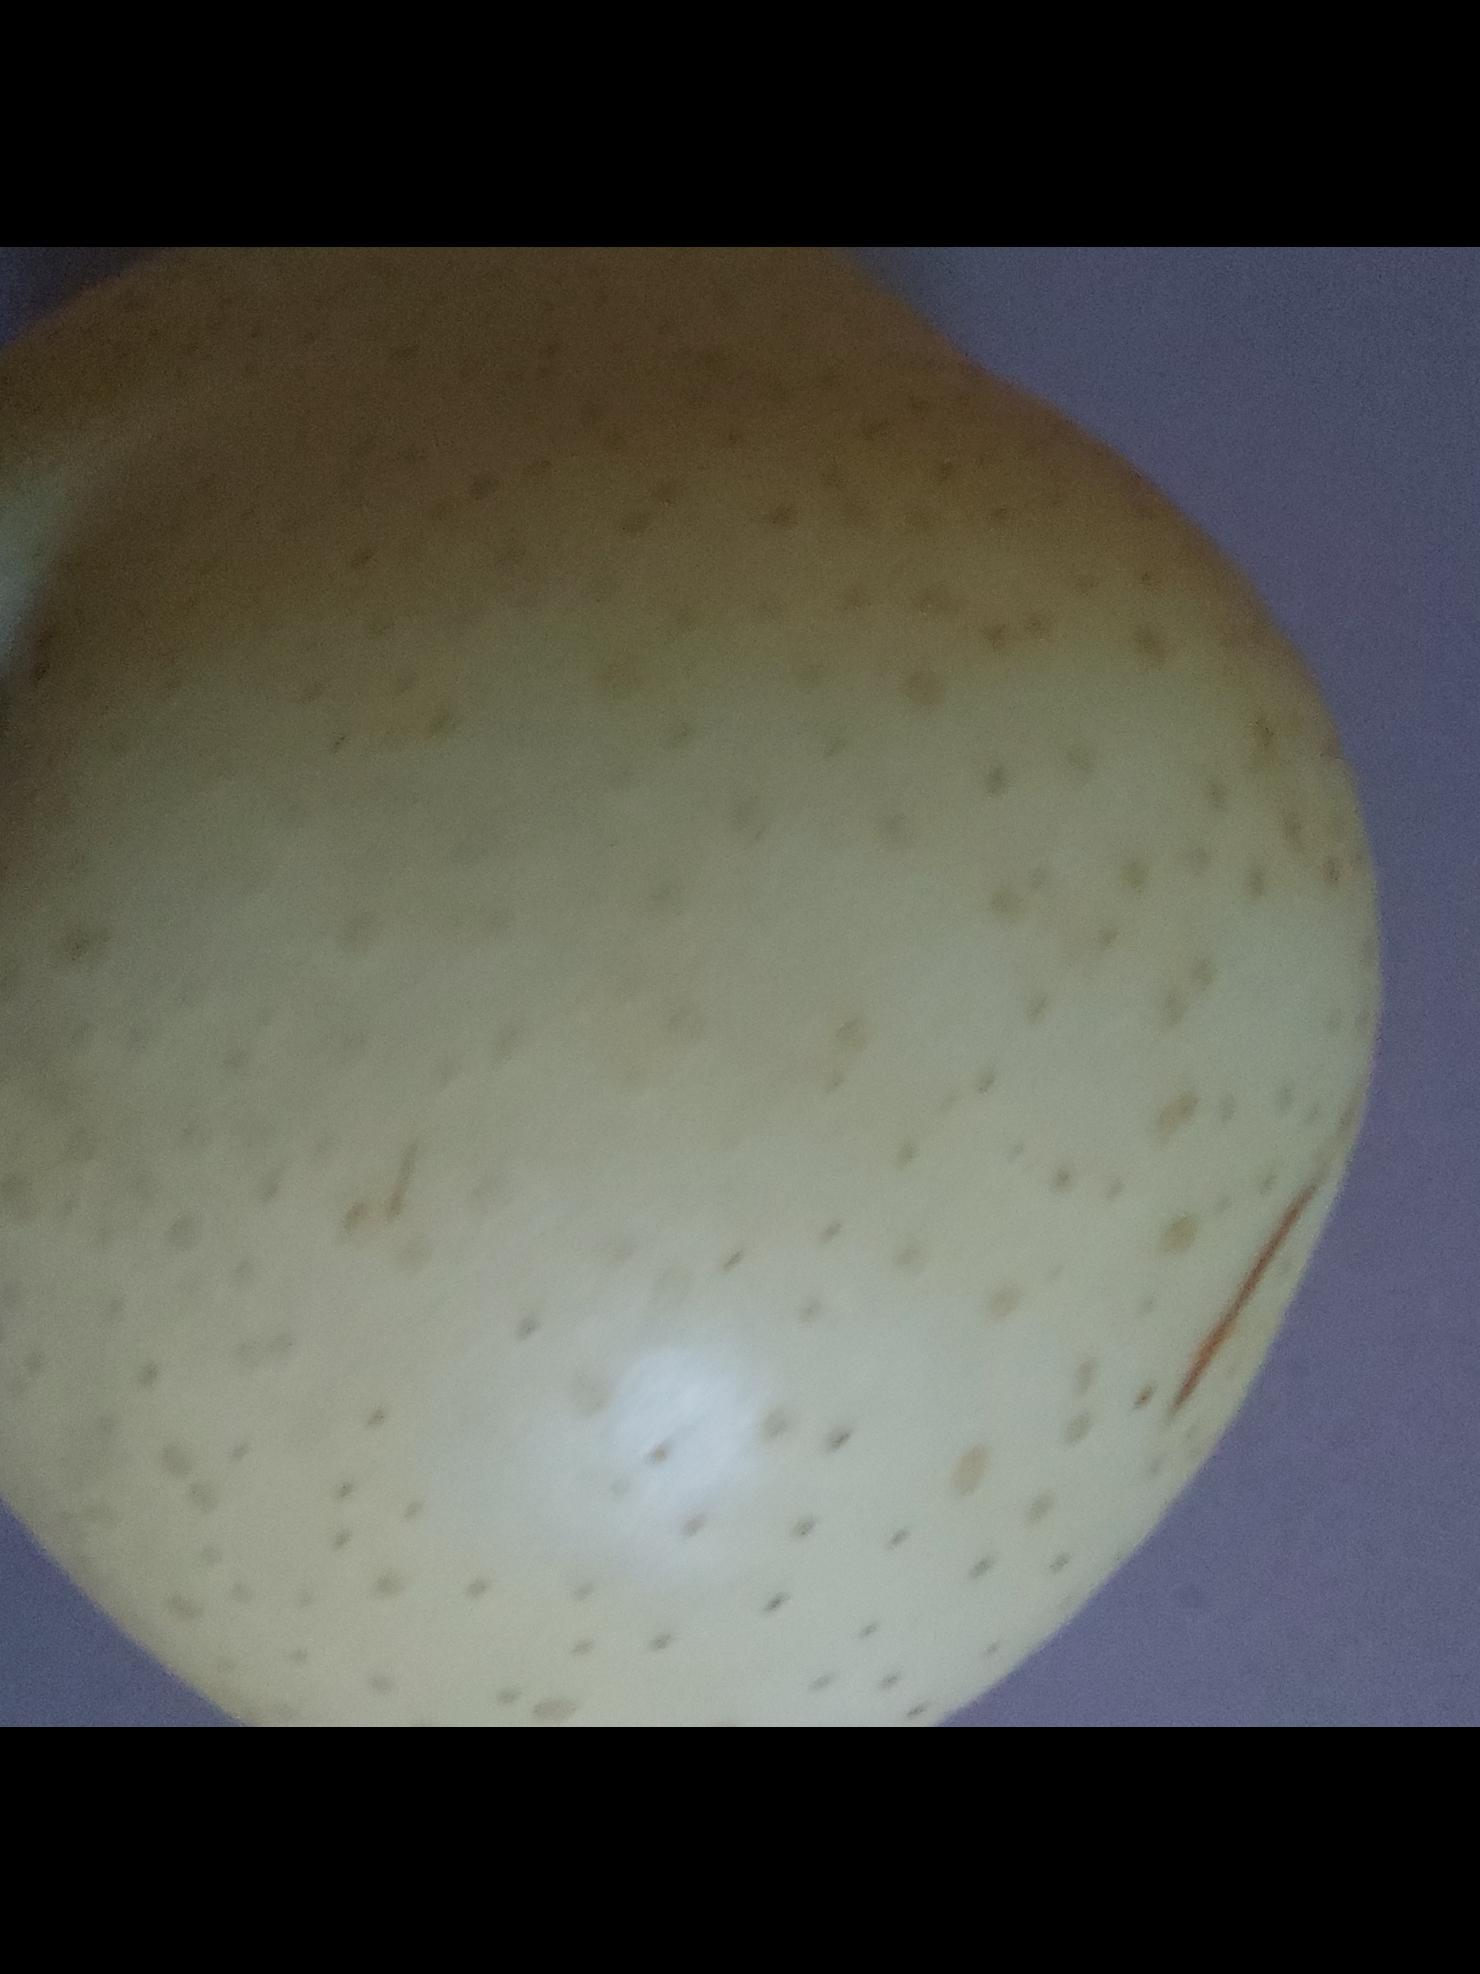Good Pear: (0, 247, 1444, 1727)
